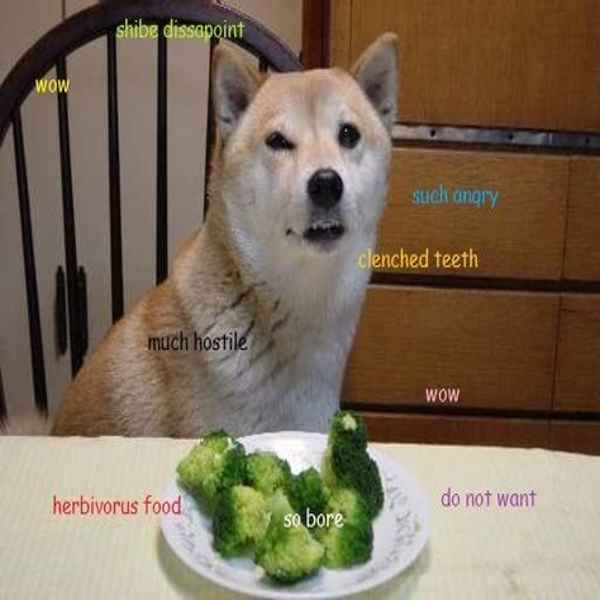doge: (196, 33, 399, 259)
